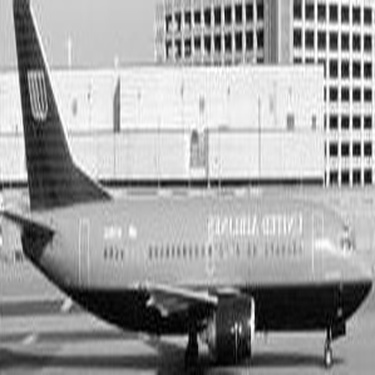airplane: (1, 5, 371, 373)
